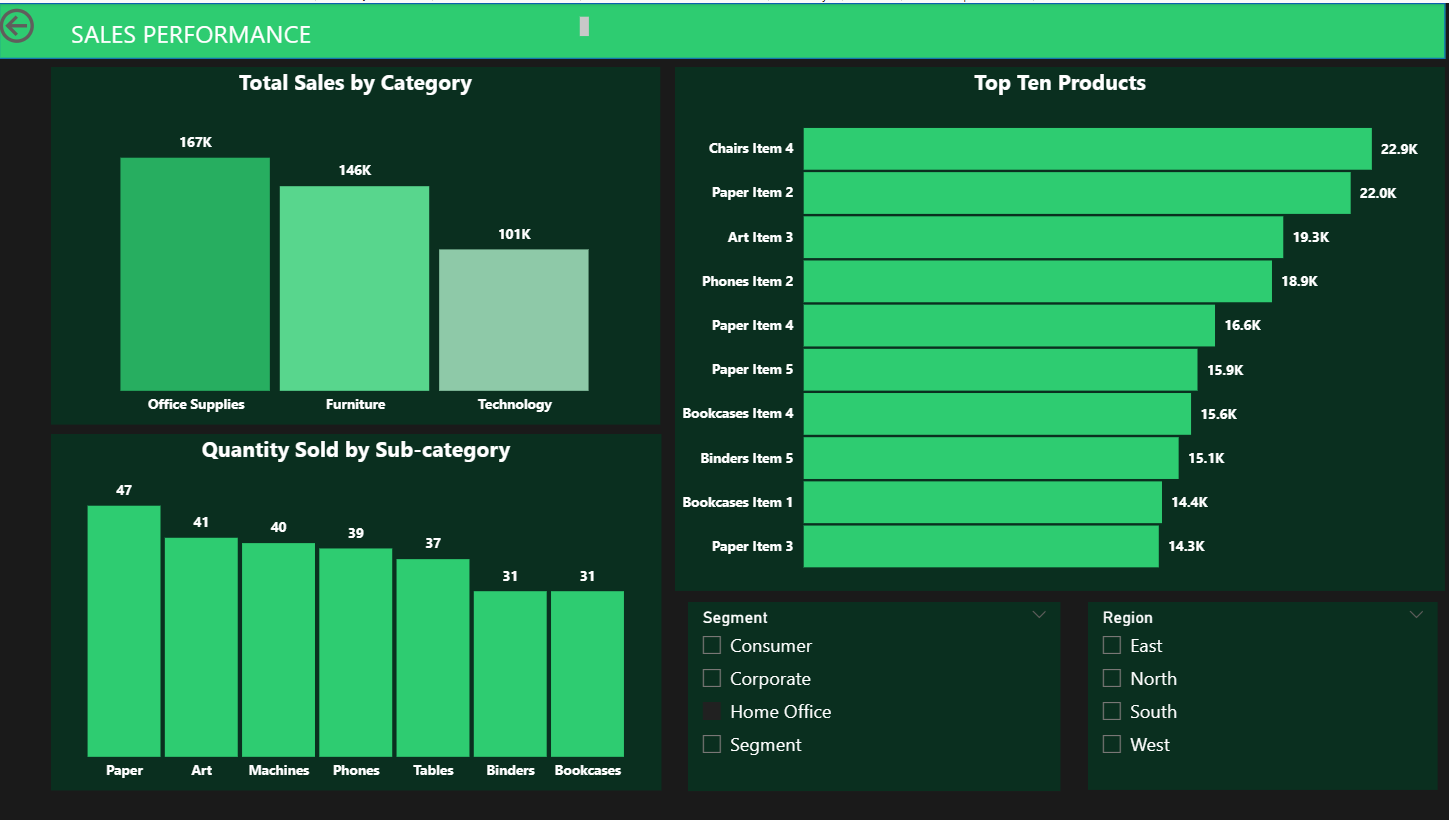

This screenshot's page, from the dashboard's own definition file:
{"tool":"powerbi","page":{"name":"Sales Performance","canvas":[1280,720],"ordinal":1},"visuals":[{"type":"shape","box":[4.5,0,1270,49.1],"z":0},{"type":"textbox","box":[62.7,7.3,464.5,32.7],"z":1000},{"type":"clusteredColumnChart","fields":{"Category":["Products.Category"],"Y":["Sales.Total Sales"]},"box":[50,56.2,534.7,314.3],"z":2000},{"type":"barChart","title":"Top Ten Products","fields":{"Category":["Products.ProductName"],"Y":["Sales.Total Sales"]},"box":[598.2,56.4,676.4,460],"z":3000},{"type":"columnChart","title":"Quantity Sold by Sub-category","fields":{"Category":["Products.SubCategory"],"Y":["CountNonNull(Sales.Quantity)"]},"box":[50,378.4,535.6,313.5],"z":4000},{"type":"slicer","fields":{"Values":["Sales.Region"]},"box":[960.9,526.4,307.3,165.5],"z":5000},{"type":"slicer","fields":{"Values":["Customers.Segment"]},"box":[609.1,526.4,327.3,166.4],"z":6000},{"type":"actionButton","box":[0,0,100,40],"z":7000}]}

Visuals, with their boxes in screenshot pixels (x1, y1, x2, y2), scaled from the page's 1280x720 canvas onto the 1449x820 screenshot:
shape: 5 0 1443 56
textbox: 71 8 597 46
clusteredColumnChart - Products.Category x Sales.Total Sales: 57 64 662 422
"Top Ten Products" barChart: 677 64 1443 588
"Quantity Sold by Sub-category" columnChart: 57 431 663 788
slicer - Sales.Region: 1088 600 1436 788
slicer - Customers.Segment: 690 600 1060 789
actionButton: 0 0 113 46
